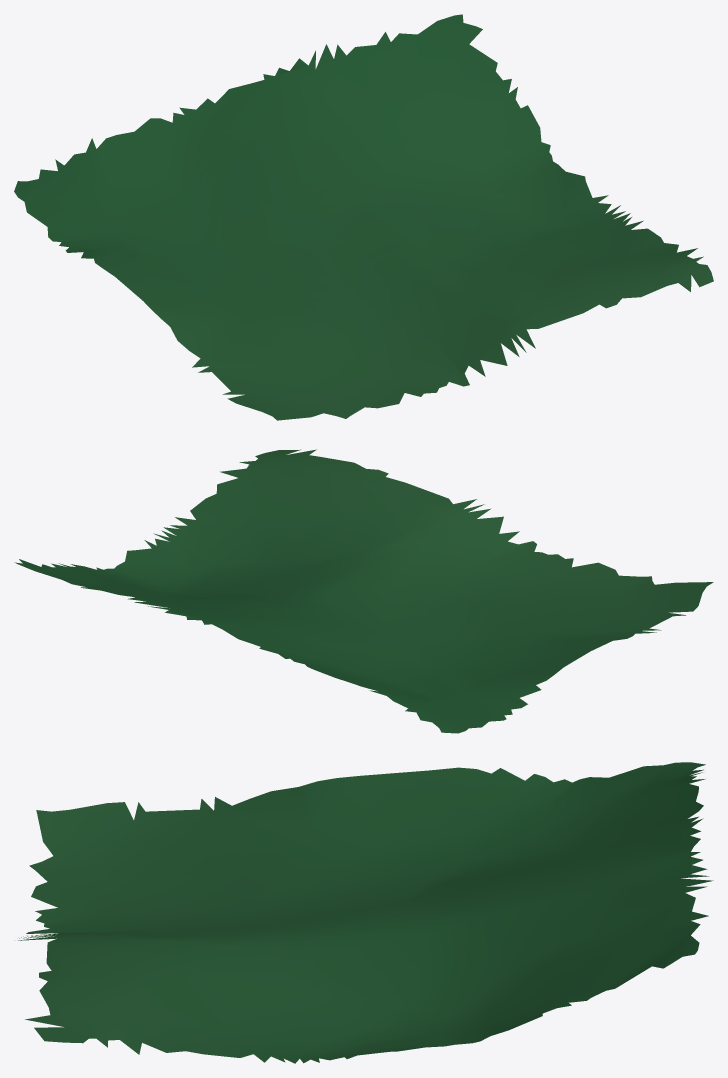
Rendered from payo_land_x3_y5_lod2.glb.
The picture shows the model from 3 angles, top to bottom: view 1: azimuth 30°, elevation 25°; view 2: azimuth 150°, elevation 25°; view 3: azimuth 270°, elevation 25°; orthographic projection. The views are drawn at different scales.
Visible parts, largest first — view 1: payo_land_x3_y5; view 2: payo_land_x3_y5; view 3: payo_land_x3_y5.
Boxes of the visible parts, left/top/right/bottom form: payo_land_x3_y5: left=14, top=14, right=713, bottom=420; payo_land_x3_y5: left=14, top=449, right=713, bottom=733; payo_land_x3_y5: left=18, top=762, right=713, bottom=1063.
Bounding box in the file's own units: 269 × 62.58 × 274.
